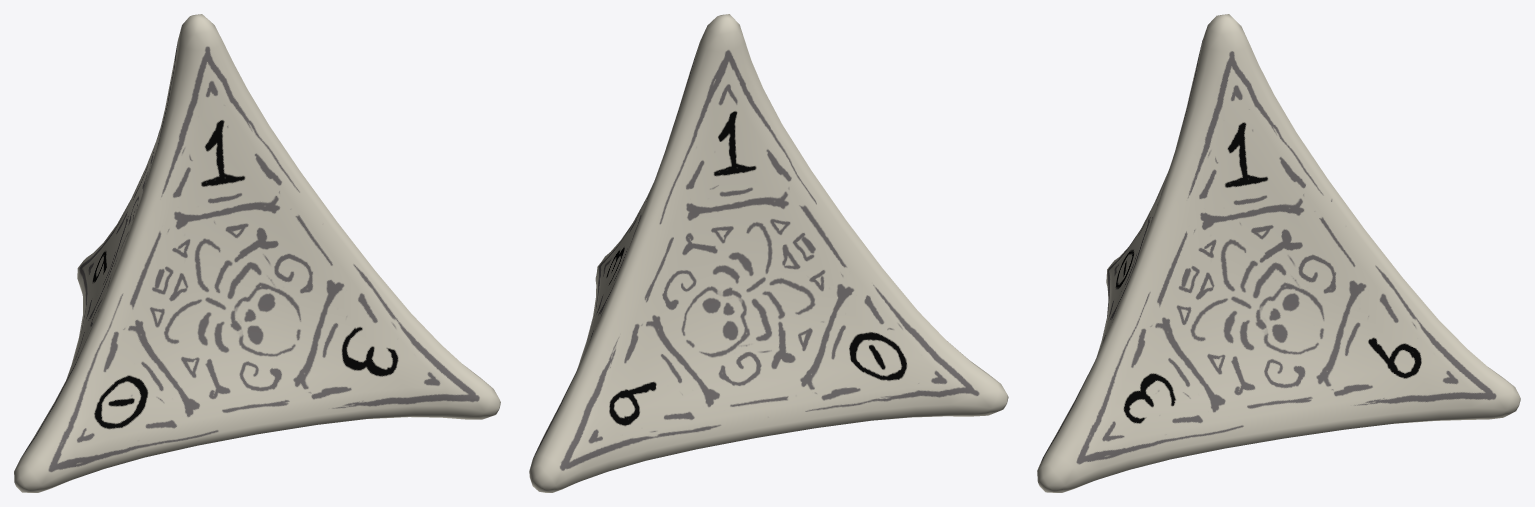
Rendered from skeleton_dice.fbx.
3 views of the same model, side by side, from view 1: azimuth 30°, elevation 25°; view 2: azimuth 150°, elevation 25°; view 3: azimuth 270°, elevation 25° (orthographic).
Parts seen in each view (by area): view 1: skeleton; view 2: skeleton; view 3: skeleton.
Part boxes in pixels (x1,y1,x2,y2): skeleton: (14, 14, 500, 492); skeleton: (529, 14, 1008, 492); skeleton: (1037, 14, 1520, 492).
Size of the model in its own units: 2.58 by 2.14 by 2.45.
Materials: 1 (1 with a texture image).
